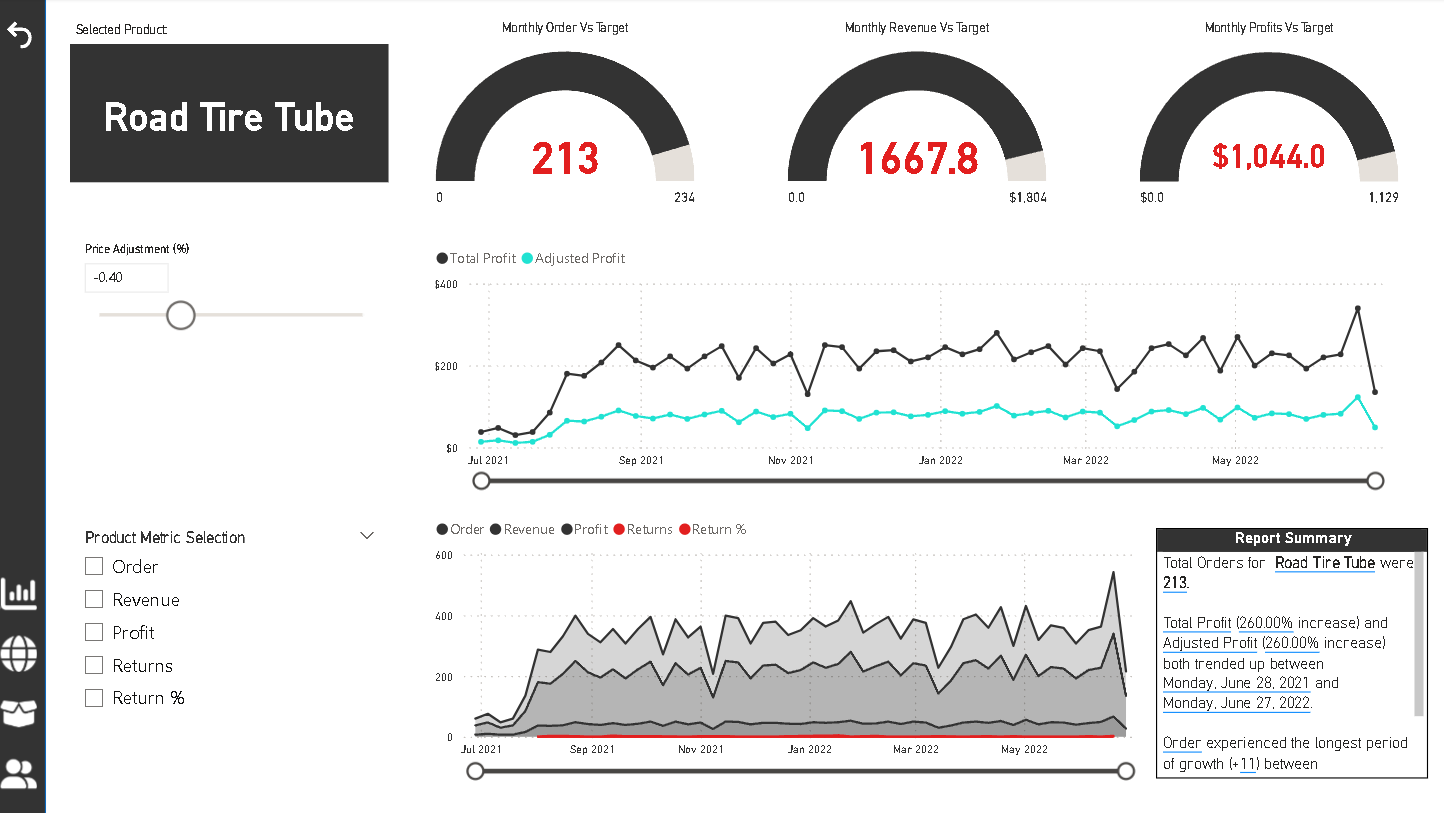

What the dashboard file says about the page in this screenshot:
{"tool":"powerbi","page":{"name":"Product Detail","canvas":[1280,720],"ordinal":2},"visuals":[{"type":"shape","box":[0,0,45,720],"z":0},{"type":"gauge","title":"Monthly Order Vs Target","fields":{"Y":["Measure Table.Total Order"],"MaxValue":["Measure Table.Order Target"]},"box":[384,19.6,238.5,179.8],"z":1000},{"type":"gauge","title":"Monthly Revenue Vs Target","fields":{"Y":["Measure Table.Total Revenue"],"MaxValue":["Measure Table.Revenue Target"]},"box":[694.6,19.6,238.5,179.8],"z":2000},{"type":"gauge","title":"Monthly Profits Vs Target","fields":{"Y":["Measure Table.Total Profit"],"MaxValue":["Measure Table.Profit Target"]},"box":[1005.2,19.6,238.5,181],"z":3000},{"type":"lineChart","title":"Profits Trending","fields":{"Category":["Calendar Lookup.Date hierarchy.Start of Year","Calendar Lookup.Date hierarchy.Start of Month","Calendar Lookup.Date hierarchy.Start of Week","Calendar Lookup.Date hierarchy.Date"],"Y":["Measure Table.Total Profit","Measure Table.Adjusted Profit"]},"box":[384,210.3,859.7,227.4],"z":4000},{"type":"areaChart","title":"Returns Trending","fields":{"Y":["Measure Table.Total Order","Measure Table.Total Revenue","Measure Table.Total Profit","Measure Table.Total Returns","Measure Table.Return Rate"],"Category":["Calendar Lookup.Date hierarchy.Start of Year","Calendar Lookup.Date hierarchy.Start of Month","Calendar Lookup.Date hierarchy.Start of Week","Calendar Lookup.Date hierarchy.Date"]},"box":[383.8,448.8,640,243.8],"z":5000},{"type":"card","fields":{"Values":["Min(Product Lookup.ProductName)"]},"box":[66,40.4,281.3,122.3],"z":6000},{"type":"textbox","box":[66,12.2,123.5,28.1],"z":7000},{"type":"actionButton","box":[4.9,15.9,35.5,33],"z":8000},{"type":"actionButton","box":[1.2,505.3,45.2,40.4],"z":9000},{"type":"actionButton","box":[1.2,558.3,45.2,40.4],"z":10000},{"type":"actionButton","box":[1.2,611.3,45.2,40.4],"z":11000},{"type":"actionButton","box":[1.2,664.3,45.2,40.4],"z":12000},{"type":"slicer","fields":{"Values":["Price Adjustment (%).Price Adjustment (%)"]},"box":[66,210.3,281.3,105.2],"z":13000},{"type":"slicer","fields":{"Values":["Product Metric Selection.Product Metric Selection"]},"box":[66,463.5,281.3,215.2],"z":14000},{"type":"textbox","title":"Report Summary","box":[1023.8,467.5,240,221.2],"z":15000}]}

Visuals, with their boxes on the page's 1280x720 design canvas (x1, y1, x2, y2). These are canvas units, not pixel positions in the 1444x813 screenshot, which may show the page scaled, cropped or inside an application window:
shape: (0, 0, 45, 720)
"Monthly Order Vs Target" gauge: (384, 20, 622, 199)
"Monthly Revenue Vs Target" gauge: (695, 20, 933, 199)
"Monthly Profits Vs Target" gauge: (1005, 20, 1244, 201)
"Profits Trending" lineChart: (384, 210, 1244, 438)
"Returns Trending" areaChart: (384, 449, 1024, 693)
card - Min(Product Lookup.ProductName): (66, 40, 347, 163)
textbox: (66, 12, 190, 40)
actionButton: (5, 16, 40, 49)
actionButton: (1, 505, 46, 546)
actionButton: (1, 558, 46, 599)
actionButton: (1, 611, 46, 652)
actionButton: (1, 664, 46, 705)
slicer - Price Adjustment (%).Price Adjustment (%): (66, 210, 347, 316)
slicer - Product Metric Selection.Product Metric Selection: (66, 464, 347, 679)
"Report Summary" textbox: (1024, 468, 1264, 689)
